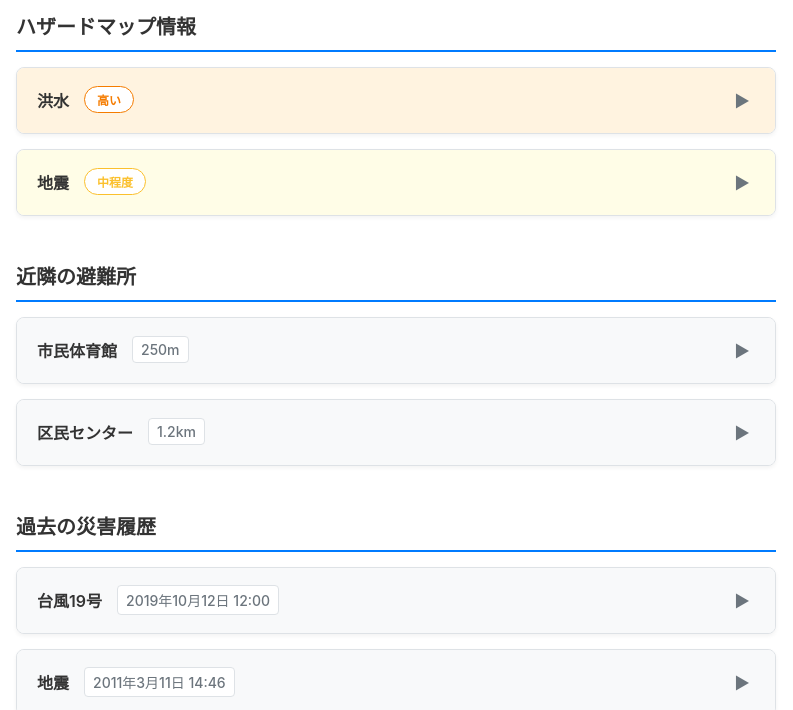
DisasterInfoDisplayComponent › 避難所情報 › 避難所の詳細情報が展開できる
The image size is (793, 710).
(page scrolled)
Click the text "市民体育館": [396, 350] box [17, 318, 775, 383]
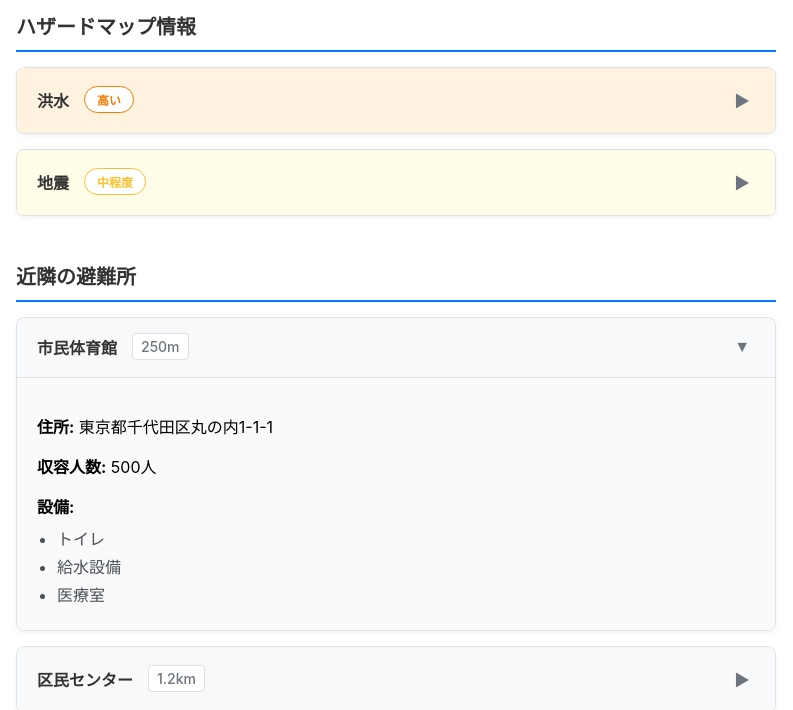
Result: the element with class "shelter-details" shows "住所: 東京都千代田区丸の内1-1-1" at [17, 377, 775, 630]
Result: the text "500人" is shown at [37, 457, 157, 477]
Result: the list item "トイレ" is shown at [57, 529, 105, 549]
